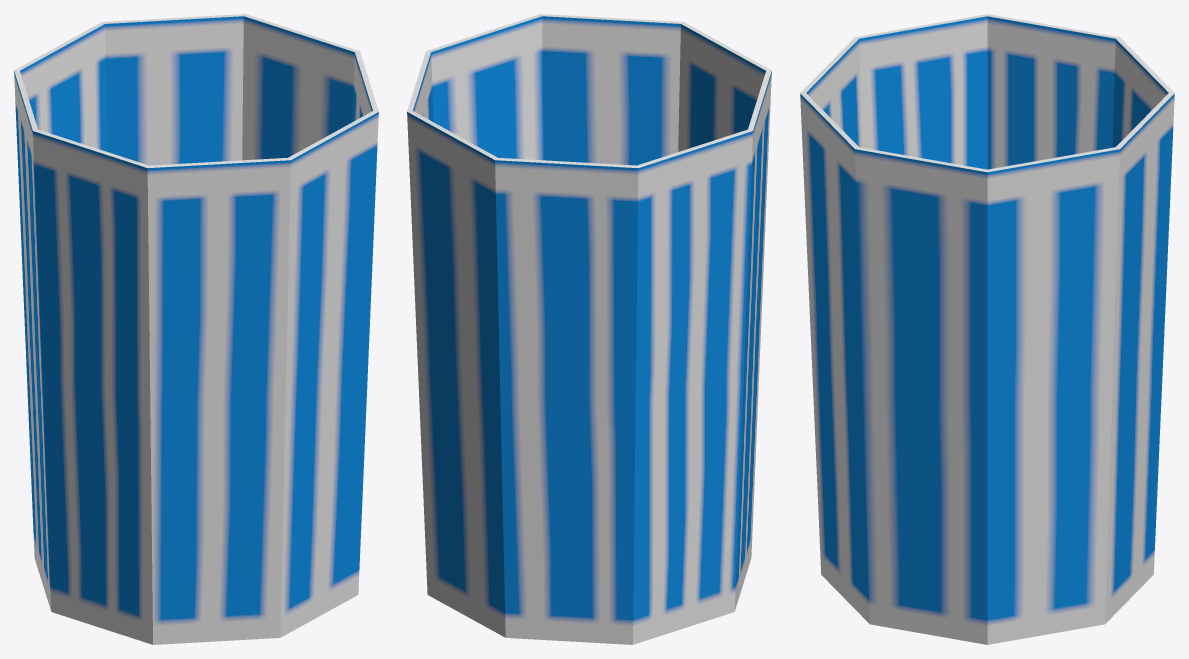
File: JuiceCupC.fbx
3 renders of one model, left to right at view 1: azimuth 30°, elevation 25°; view 2: azimuth 150°, elevation 25°; view 3: azimuth 270°, elevation 25°, orthographic.
Parts seen in each view (by area): view 1: JuiceCupC; view 2: JuiceCupC; view 3: JuiceCupC.
Part boxes in pixels (x1,y1,x2,y2): JuiceCupC: [14, 14, 378, 644]; JuiceCupC: [407, 14, 771, 644]; JuiceCupC: [800, 14, 1174, 644].
Bounding box in the file's own units: 102 × 145 × 102.
